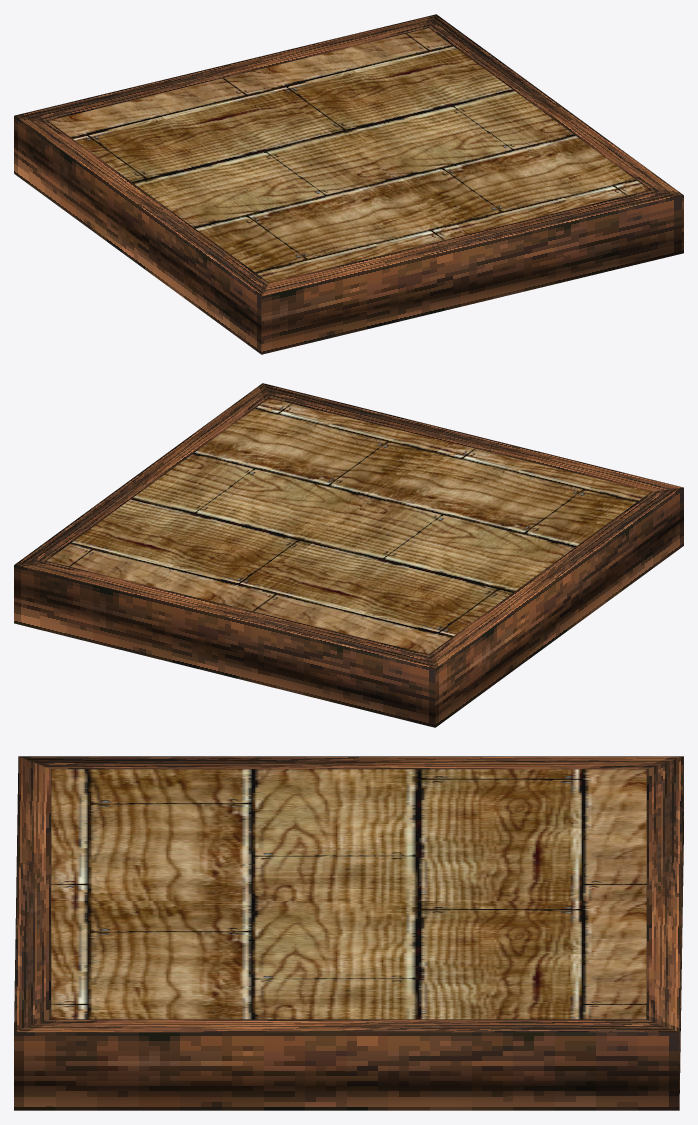
Rendered from LAKETOWN_WAREHOUSE1_ANIM_WH1_FALLPLAT_3939__AI.obj.
3 renders of one model, top to bottom at view 1: azimuth 30°, elevation 25°; view 2: azimuth 150°, elevation 25°; view 3: azimuth 270°, elevation 25°, orthographic. The views are drawn at different scales.
Parts seen in each view (by area): view 1: llPlat_3939__AI; view 2: llPlat_3939__AI; view 3: llPlat_3939__AI.
Part boxes in pixels (box(x1,y1,x2,y2)): llPlat_3939__AI: box(14, 14, 683, 354); llPlat_3939__AI: box(14, 383, 683, 727); llPlat_3939__AI: box(14, 756, 683, 1110).
Size of the model in its own units: 260 by 34.28 by 267.
